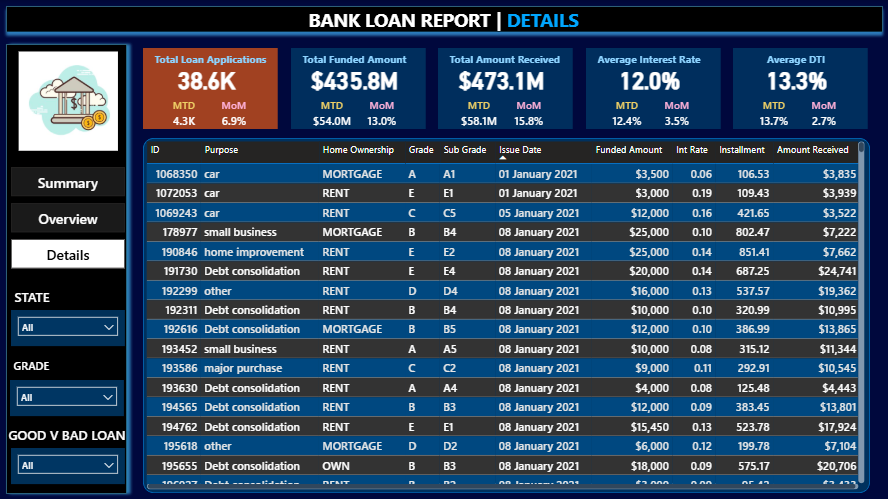

Layout of this report page (visuals, bound fields, positions):
{"tool":"powerbi","page":{"name":"Details","canvas":[1280,720],"ordinal":2},"visuals":[{"type":"shape","box":[205.9,69.1,194.4,116.6],"z":0,"group":"g1"},{"type":"shape","box":[418.3,69.1,194.4,116.6],"z":0,"group":"g2"},{"type":"shape","box":[630.7,69.1,194.4,116.6],"z":0,"group":"g3"},{"type":"shape","box":[843.1,69.1,194.4,116.6],"z":0,"group":"g4"},{"type":"shape","box":[1055.5,69.1,194.4,116.6],"z":0,"group":"g5"},{"type":"textbox","box":[14.4,265,164.2,36],"z":0},{"type":"slicer","fields":{"Values":["Bank_Loan_Data.address_state"]},"box":[15.8,446.4,164.2,51.8],"z":0,"group":"g6"},{"type":"slicer","fields":{"Values":["Bank_Loan_Data.grade"]},"box":[14.4,547.2,164.2,51.8],"z":0,"group":"g7"},{"type":"textbox","box":[7.2,609.1,178.6,36],"z":0,"group":"g8"},{"type":"shape","box":[0,54.7,191.5,665.3],"z":1000},{"type":"card","fields":{"Values":["Bank_Loan_Data.Total Loan Applications"]},"box":[191.5,86.4,211.7,54.7],"z":1000,"group":"g1"},{"type":"card","fields":{"Values":["Bank_Loan_Data.Total Funded Amount"]},"box":[403.9,86.4,211.7,54.7],"z":1000,"group":"g2"},{"type":"card","fields":{"Values":["Bank_Loan_Data.Total Amount Received"]},"box":[616.3,86.4,211.7,54.7],"z":1000,"group":"g3"},{"type":"card","fields":{"Values":["Bank_Loan_Data.Avg Interest Rate"]},"box":[828.7,86.4,211.7,54.7],"z":1000,"group":"g4"},{"type":"card","fields":{"Values":["Bank_Loan_Data.Avg DTI"]},"box":[1041.1,86.4,211.7,54.7],"z":1000,"group":"g5"},{"type":"textbox","box":[15.8,410.4,82.1,36],"z":1000,"group":"g6"},{"type":"textbox","box":[14.4,511.2,82.1,36],"z":1000,"group":"g7"},{"type":"slicer","fields":{"Values":["Bank_Loan_Data.Good v Bad Loan"]},"box":[16.5,645,164.2,51.8],"z":1000,"group":"g8"},{"type":"shape","box":[0,0,1280.2,55],"z":2000},{"type":"textbox","box":[217.4,69.1,207.4,36],"z":2000,"group":"g1"},{"type":"textbox","box":[429.8,69.1,207.4,36],"z":2000,"group":"g2"},{"type":"textbox","box":[642.2,69.1,207.4,36],"z":2000,"group":"g3"},{"type":"textbox","box":[854.6,69.1,207.4,36],"z":2000,"group":"g4"},{"type":"textbox","box":[1067,69.1,207.4,36],"z":2000,"group":"g5"},{"type":"card","title":"MTD","fields":{"Values":["Bank_Loan_Data.MTD Loan Applications"]},"box":[226.1,141.1,77.8,44.6],"z":3000,"group":"g1"},{"type":"card","title":"MTD","fields":{"Values":["Bank_Loan_Data.MTD Funded Amount"]},"box":[438.5,141.1,77.8,44.6],"z":3000,"group":"g2"},{"type":"card","title":"MTD","fields":{"Values":["Bank_Loan_Data.MTD Total Amount Received"]},"box":[650.9,141.1,77.8,44.6],"z":3000,"group":"g3"},{"type":"card","title":"MTD","fields":{"Values":["Bank_Loan_Data.MTD Avg Int Rate"]},"box":[863.3,141.1,77.8,44.6],"z":3000,"group":"g4"},{"type":"card","title":"MTD","fields":{"Values":["Bank_Loan_Data.MTD Avg DTI"]},"box":[1075.7,141.1,77.8,44.6],"z":3000,"group":"g5"},{"type":"shape","box":[205.9,198.7,1046.9,511.2],"z":3000},{"type":"textbox","box":[439.2,4.3,447.8,50.4],"z":4000},{"type":"card","title":"MoM","fields":{"Values":["Bank_Loan_Data.MoM Loan Applications"]},"box":[298.1,141.1,77.8,44.6],"z":4000,"group":"g1"},{"type":"card","title":"MoM","fields":{"Values":["Bank_Loan_Data.MoM Total Funded Amount"]},"box":[510.5,141.1,77.8,44.6],"z":4000,"group":"g2"},{"type":"card","title":"MoM","fields":{"Values":["Bank_Loan_Data.MoM Total Amount Received"]},"box":[722.9,141.1,77.8,44.6],"z":4000,"group":"g3"},{"type":"card","title":"MoM","fields":{"Values":["Bank_Loan_Data.MoM Avg Int Rate"]},"box":[935.3,141.1,77.8,44.6],"z":4000,"group":"g4"},{"type":"card","title":"MoM","fields":{"Values":["Bank_Loan_Data.MoM Avg DTI"]},"box":[1147.7,141.1,77.8,44.6],"z":4000,"group":"g5"},{"type":"group","id":"g1","title":"Group 1","box":[191.5,69.1,233.3,116.6],"z":5000},{"type":"group","id":"g2","title":"Group 1","box":[403.9,69.1,233.3,116.6],"z":6000},{"type":"group","id":"g3","title":"Group 1","box":[616.3,69.1,233.3,116.6],"z":7000},{"type":"group","id":"g4","title":"Group 1","box":[828.7,69.1,233.3,116.6],"z":8000},{"type":"group","id":"g5","title":"Group 1","box":[1041.1,69.1,233.3,116.6],"z":9000},{"type":"group","id":"g6","title":"Group 2","box":[15.8,410.4,164.2,87.8],"z":10000},{"type":"group","id":"g7","title":"Group 3","box":[14.4,511.2,164.2,87.8],"z":11000},{"type":"group","id":"g8","title":"Group 5","box":[7.2,609.1,178.6,87.8],"z":12000},{"type":"tableEx","fields":{"Values":["Bank_Loan_Data.id","Bank_Loan_Data.purpose","Bank_Loan_Data.home_ownership","Bank_Loan_Data.grade","Bank_Loan_Data.sub_grade","Bank_Loan_Data.issue_date","Bank_Loan_Data.Total Funded Amount","Sum(Bank_Loan_Data.int_rate)","Sum(Bank_Loan_Data.installment)","Bank_Loan_Data.Total Amount Received"]},"box":[205.9,198.7,1044,511.2],"z":13000},{"type":"image","box":[15.8,69.1,164.2,152.6],"z":14000},{"type":"pageNavigator","box":[15.8,240.5,164.2,146.9],"z":15000}]}

Visuals, with their boxes in screenshot pixels (x1, y1, x2, y2), scaled from the page's 1280x720 canvas onto the 888x499 screenshot:
shape: bbox=(143, 48, 278, 129)
shape: bbox=(290, 48, 425, 129)
shape: bbox=(438, 48, 572, 129)
shape: bbox=(585, 48, 720, 129)
shape: bbox=(732, 48, 867, 129)
textbox: bbox=(10, 184, 124, 209)
slicer - Bank_Loan_Data.address_state: bbox=(11, 309, 125, 345)
slicer - Bank_Loan_Data.grade: bbox=(10, 379, 124, 415)
textbox: bbox=(5, 422, 129, 447)
shape: bbox=(0, 38, 133, 498)
card - Bank_Loan_Data.Total Loan Applications: bbox=(133, 60, 280, 98)
card - Bank_Loan_Data.Total Funded Amount: bbox=(280, 60, 427, 98)
card - Bank_Loan_Data.Total Amount Received: bbox=(428, 60, 574, 98)
card - Bank_Loan_Data.Avg Interest Rate: bbox=(575, 60, 722, 98)
card - Bank_Loan_Data.Avg DTI: bbox=(722, 60, 869, 98)
textbox: bbox=(11, 284, 68, 309)
textbox: bbox=(10, 354, 67, 379)
slicer - Bank_Loan_Data.Good v Bad Loan: bbox=(11, 447, 125, 483)
shape: bbox=(0, 0, 887, 38)
textbox: bbox=(151, 48, 295, 73)
textbox: bbox=(298, 48, 442, 73)
textbox: bbox=(446, 48, 589, 73)
textbox: bbox=(593, 48, 737, 73)
textbox: bbox=(740, 48, 884, 73)
"MTD" card: bbox=(157, 98, 211, 129)
"MTD" card: bbox=(304, 98, 358, 129)
"MTD" card: bbox=(452, 98, 506, 129)
"MTD" card: bbox=(599, 98, 653, 129)
"MTD" card: bbox=(746, 98, 800, 129)
shape: bbox=(143, 138, 869, 492)
textbox: bbox=(305, 3, 615, 38)
"MoM" card: bbox=(207, 98, 261, 129)
"MoM" card: bbox=(354, 98, 408, 129)
"MoM" card: bbox=(502, 98, 555, 129)
"MoM" card: bbox=(649, 98, 703, 129)
"MoM" card: bbox=(796, 98, 850, 129)
"Group 1" group: bbox=(133, 48, 295, 129)
"Group 1" group: bbox=(280, 48, 442, 129)
"Group 1" group: bbox=(428, 48, 589, 129)
"Group 1" group: bbox=(575, 48, 737, 129)
"Group 1" group: bbox=(722, 48, 884, 129)
"Group 2" group: bbox=(11, 284, 125, 345)
"Group 3" group: bbox=(10, 354, 124, 415)
"Group 5" group: bbox=(5, 422, 129, 483)
tableEx - Bank_Loan_Data.id x Bank_Loan_Data.purpose: bbox=(143, 138, 867, 492)
image: bbox=(11, 48, 125, 154)
pageNavigator: bbox=(11, 167, 125, 268)
